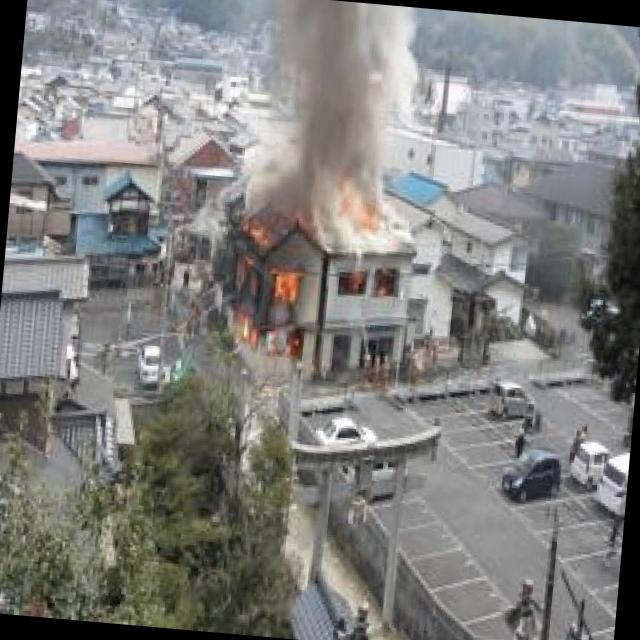Fire: (220, 225, 316, 365)
Smoke: (258, 0, 423, 231)
